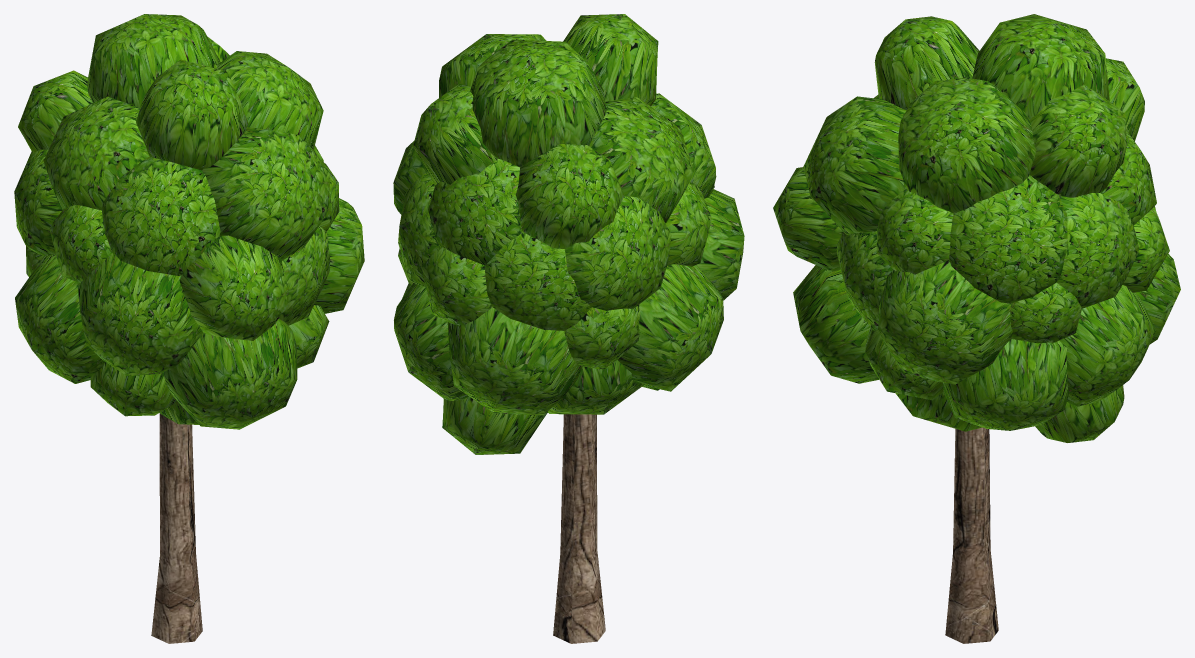
File: Arbre.fbx
3 renders of one model, left to right at view 1: azimuth 30°, elevation 25°; view 2: azimuth 150°, elevation 25°; view 3: azimuth 270°, elevation 25°, orthographic. The views are drawn at different scales.
Parts seen in each view (by area): view 1: Bouleau; view 2: Bouleau; view 3: Bouleau.
Part boxes in pixels (bbox=[...]): Bouleau: bbox=[14, 14, 364, 643]; Bouleau: bbox=[393, 14, 744, 643]; Bouleau: bbox=[773, 14, 1180, 643].
Size of the model in its own units: 137 by 251 by 151.
2 materials, 2 textured.
